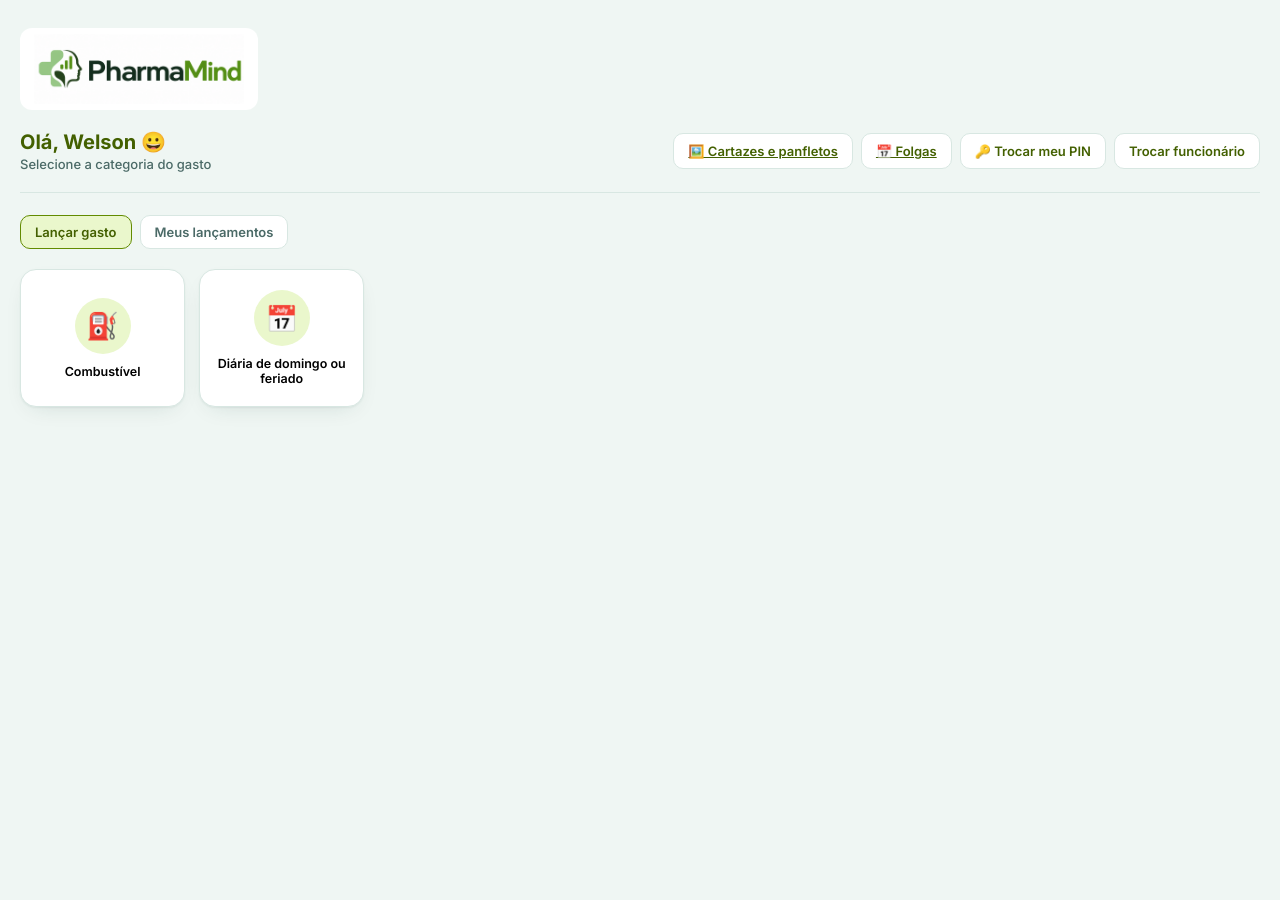
EmployeeExpensePage — seletor de beneficiário › mostra o seletor de colaborador pra uma categoria com exigeBeneficiario
Click the text "Diária de domingo ou feriado". click: (282, 371)
box: left=212, top=356, right=351, bottom=386
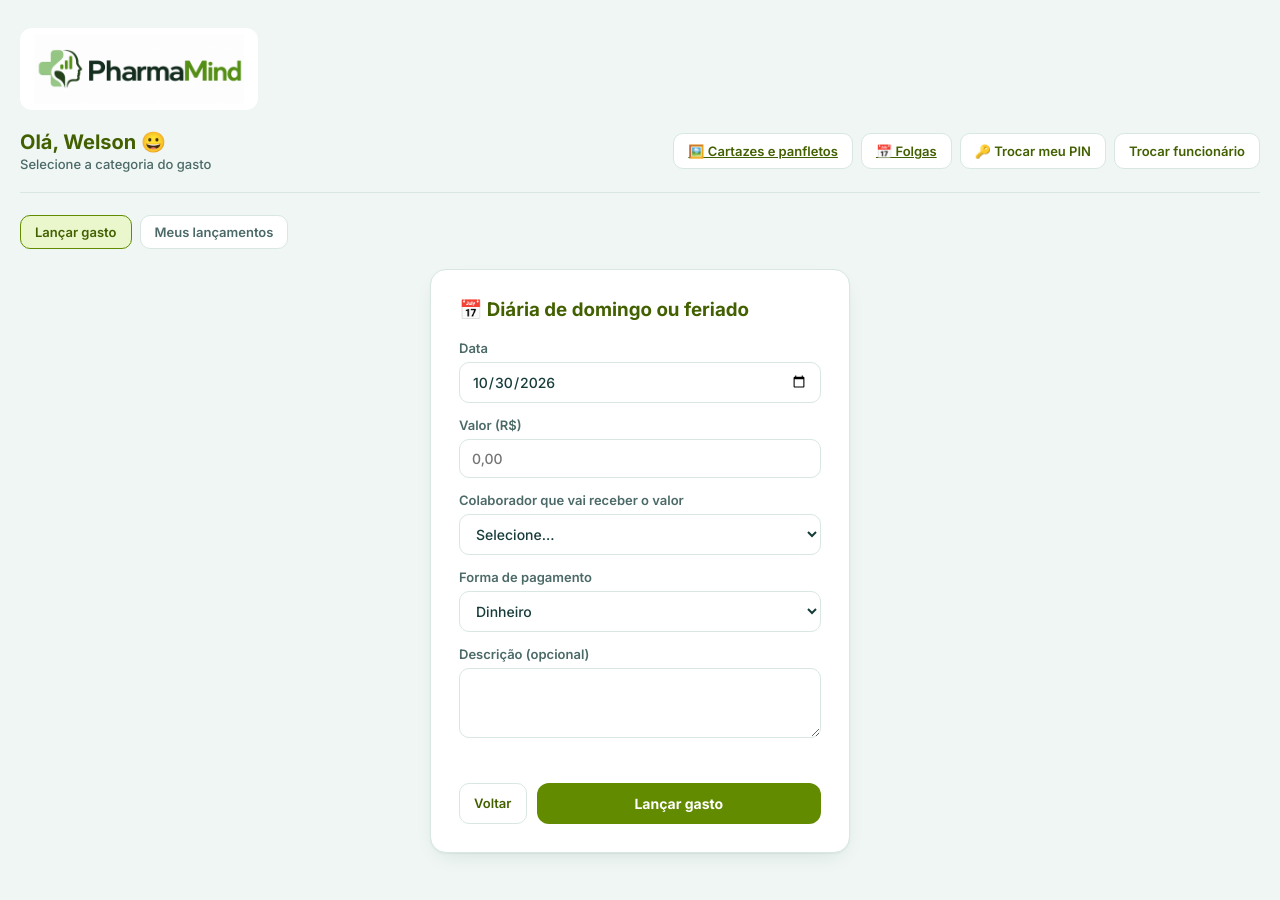
Now the dropdown labelled "Colaborador que vai receber o valor" is shown, box left=459, top=514, right=821, bottom=555
